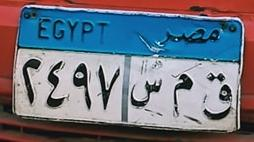2: (21, 57, 44, 103)
4: (47, 61, 66, 108)
7: (96, 65, 124, 108)
9: (72, 60, 92, 110)
meem: (168, 73, 195, 114)
qaaf: (202, 72, 231, 122)
seen: (128, 78, 165, 106)
